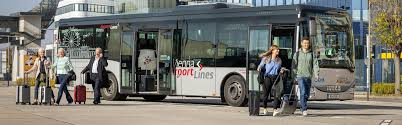bus: (48, 5, 358, 109)
